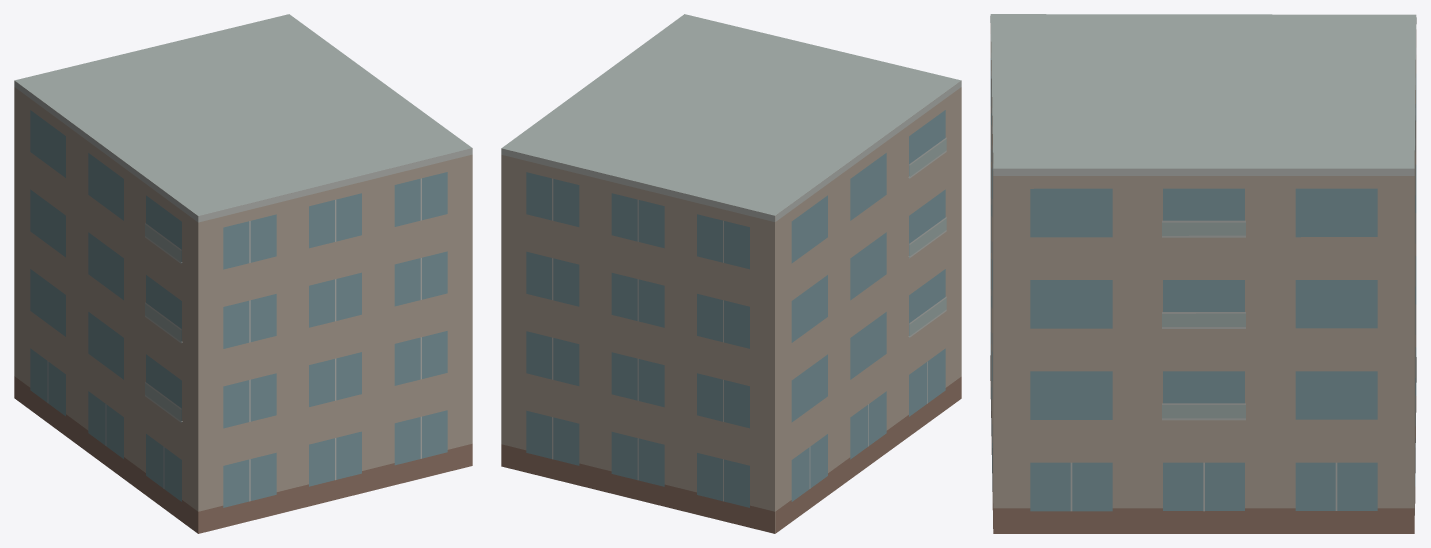
Rendered from survey-upis-32777861.glb.
The picture shows the model from 3 angles, left to right: view 1: azimuth 30°, elevation 25°; view 2: azimuth 150°, elevation 25°; view 3: azimuth 270°, elevation 25°; orthographic projection. The views are drawn at different scales.
Parts seen in each view (by area): view 1: survey-upis-32777861.tmp; view 2: survey-upis-32777861.tmp; view 3: survey-upis-32777861.tmp.
Part boxes in pixels (x1,y1,x2,y2): survey-upis-32777861.tmp: (14, 14, 472, 533); survey-upis-32777861.tmp: (501, 14, 961, 533); survey-upis-32777861.tmp: (990, 14, 1416, 533).
Bounding box in the file's own units: 11.05 × 12.1 × 12.79.
